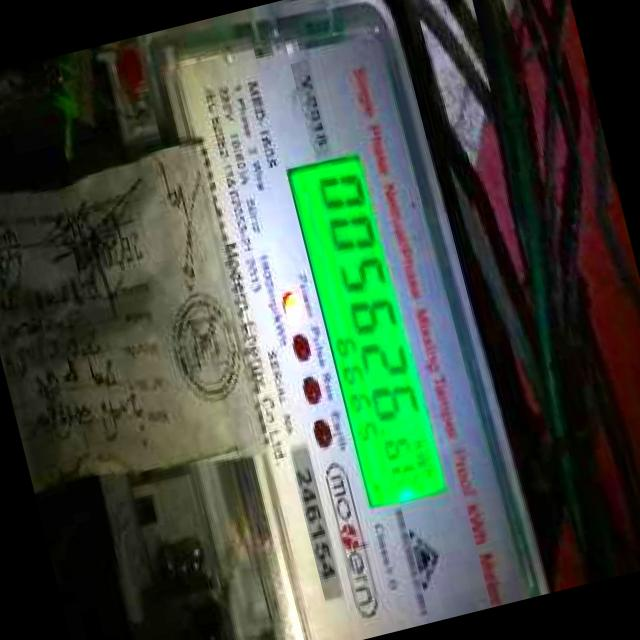LCD: (276, 148, 449, 520)
